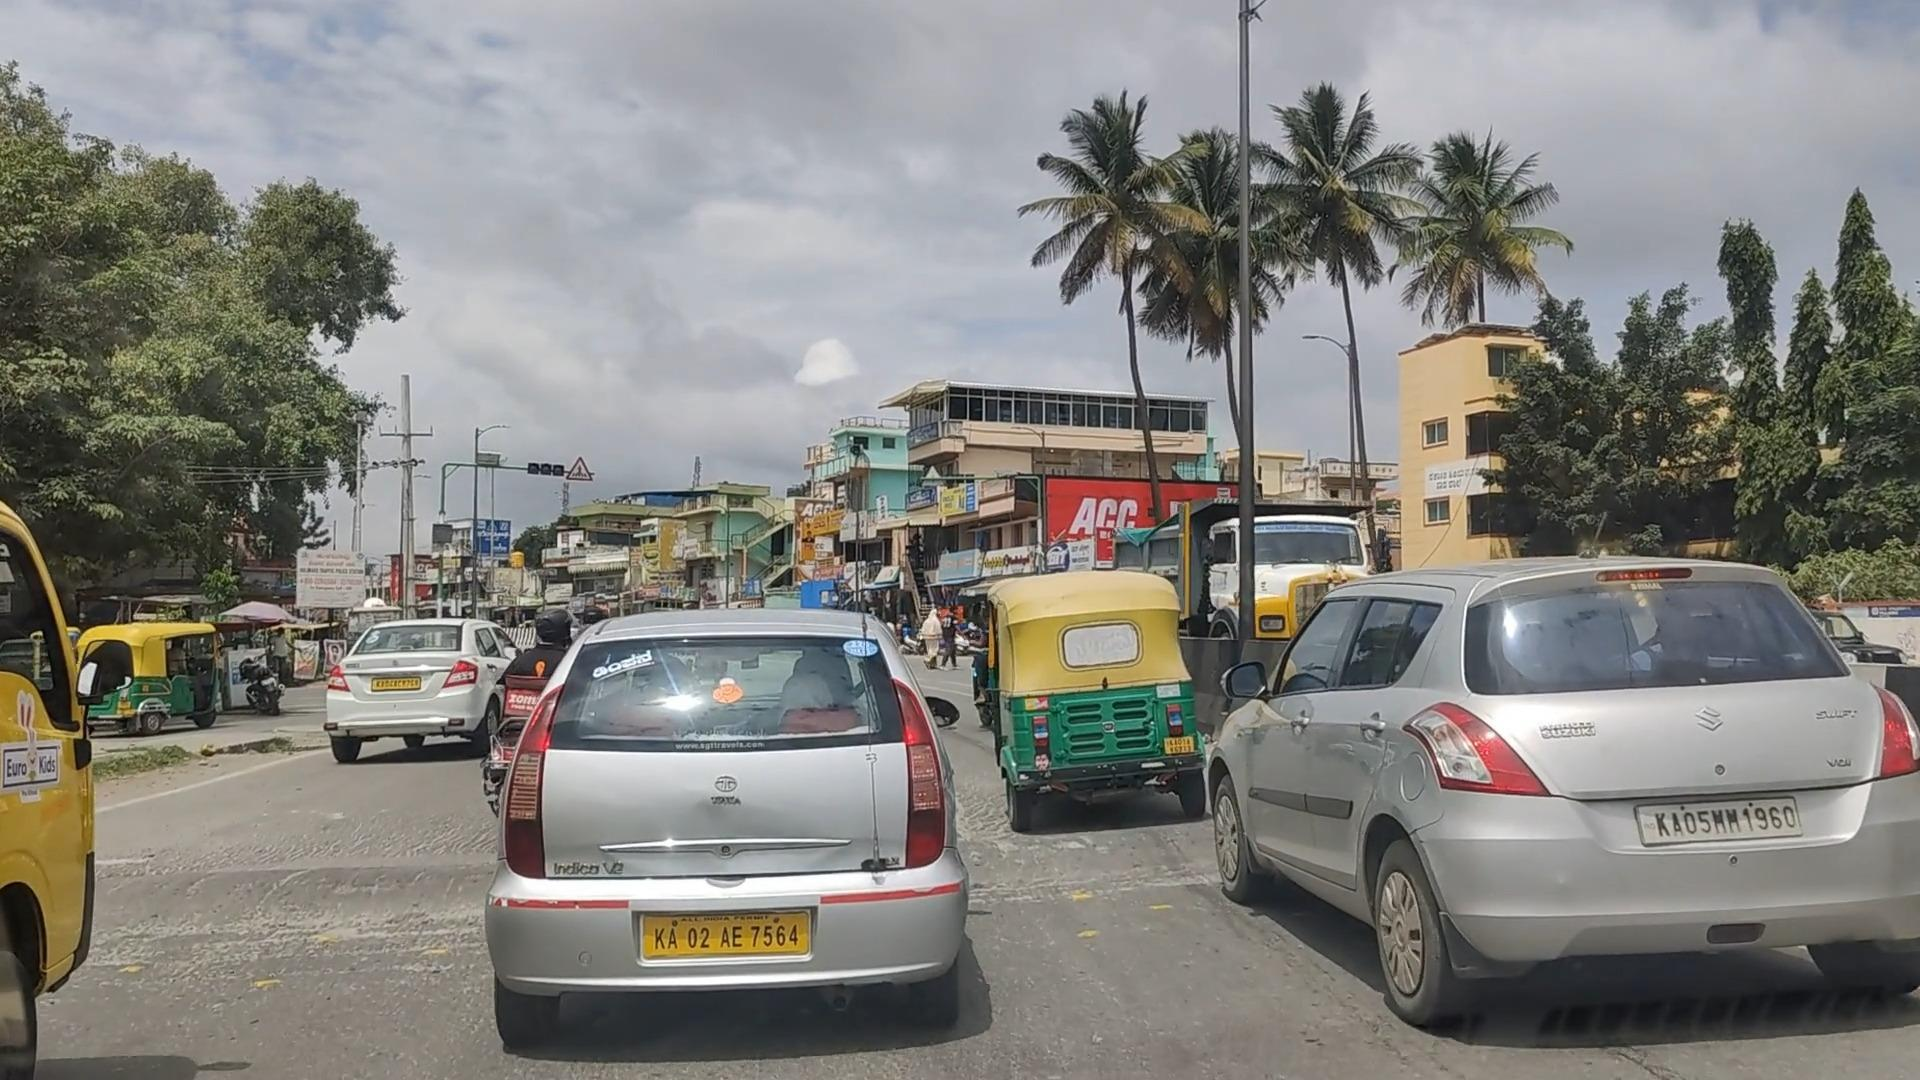LMV: (1217, 562, 1920, 1042), (485, 605, 973, 1062), (978, 564, 1208, 825), (313, 597, 506, 767)
SpeedBump: (79, 856, 495, 942)
